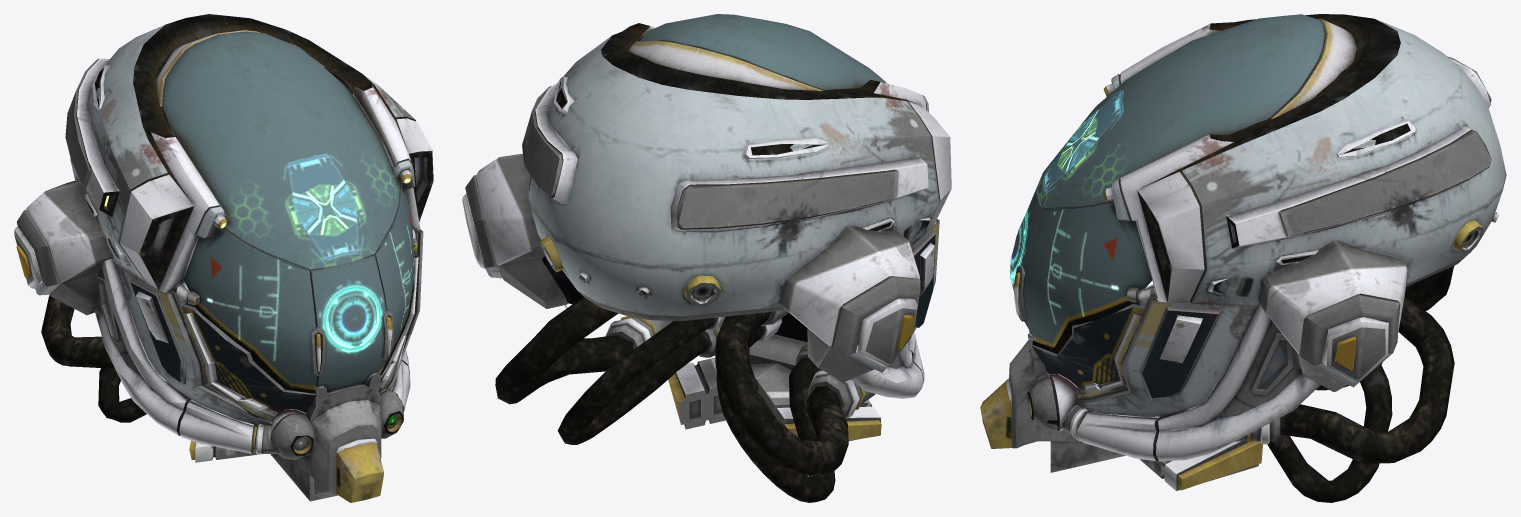
Rendered from damaged-helmet-mobile.glb.
3 renders of one model, left to right at view 1: azimuth 30°, elevation 25°; view 2: azimuth 150°, elevation 25°; view 3: azimuth 270°, elevation 25°, orthographic. The views are drawn at different scales.
Parts seen in each view (by area): view 1: node_damagedHelmet_-6514; view 2: node_damagedHelmet_-6514; view 3: node_damagedHelmet_-6514.
Boxes of the visible parts, left/top/right/bottom form: node_damagedHelmet_-6514: left=14, top=14, right=433, bottom=502; node_damagedHelmet_-6514: left=462, top=14, right=951, bottom=502; node_damagedHelmet_-6514: left=980, top=14, right=1506, bottom=502.
Bounding box in the file's own units: 1.89 × 1.8 × 2.
1 material, 1 textured.
